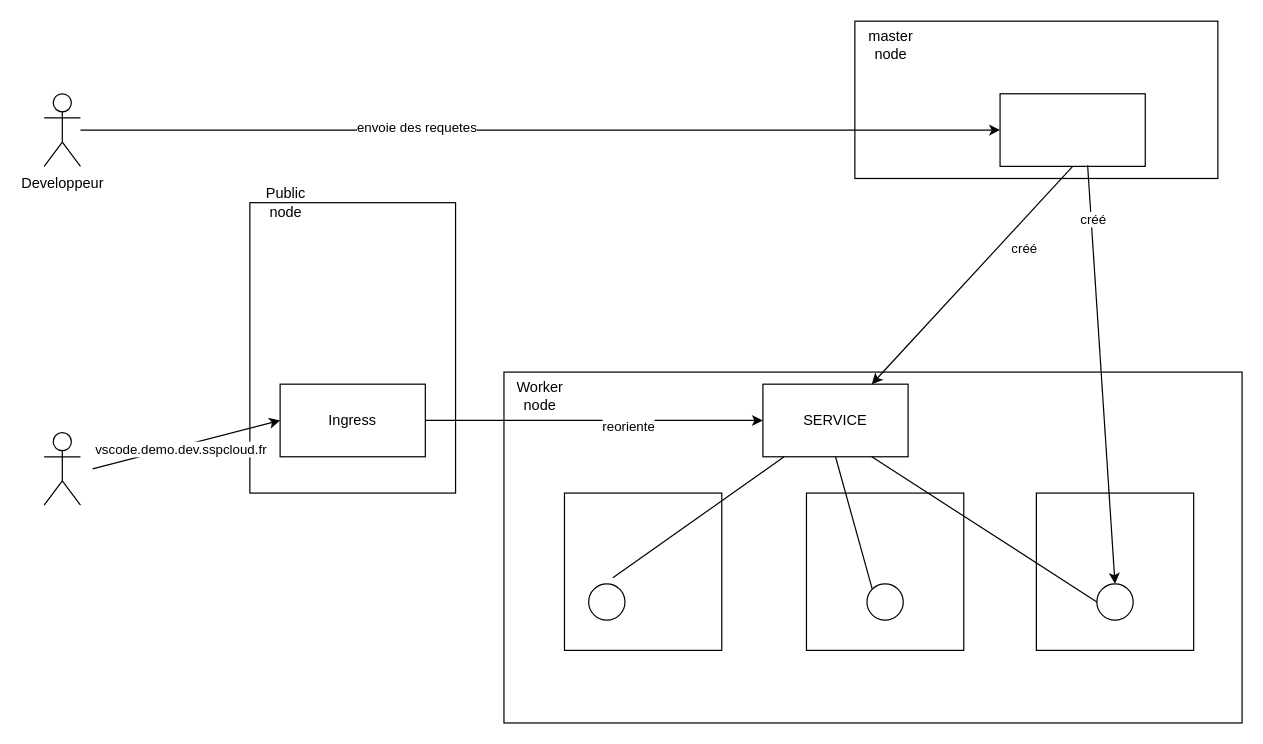
This 1263x744 diagram has some shape labels left out. Here are the shapes that lost their labels. From the top down, the centre of each, then its label:
[1072,129]: API SERVER
[61,468]: utilisateur
